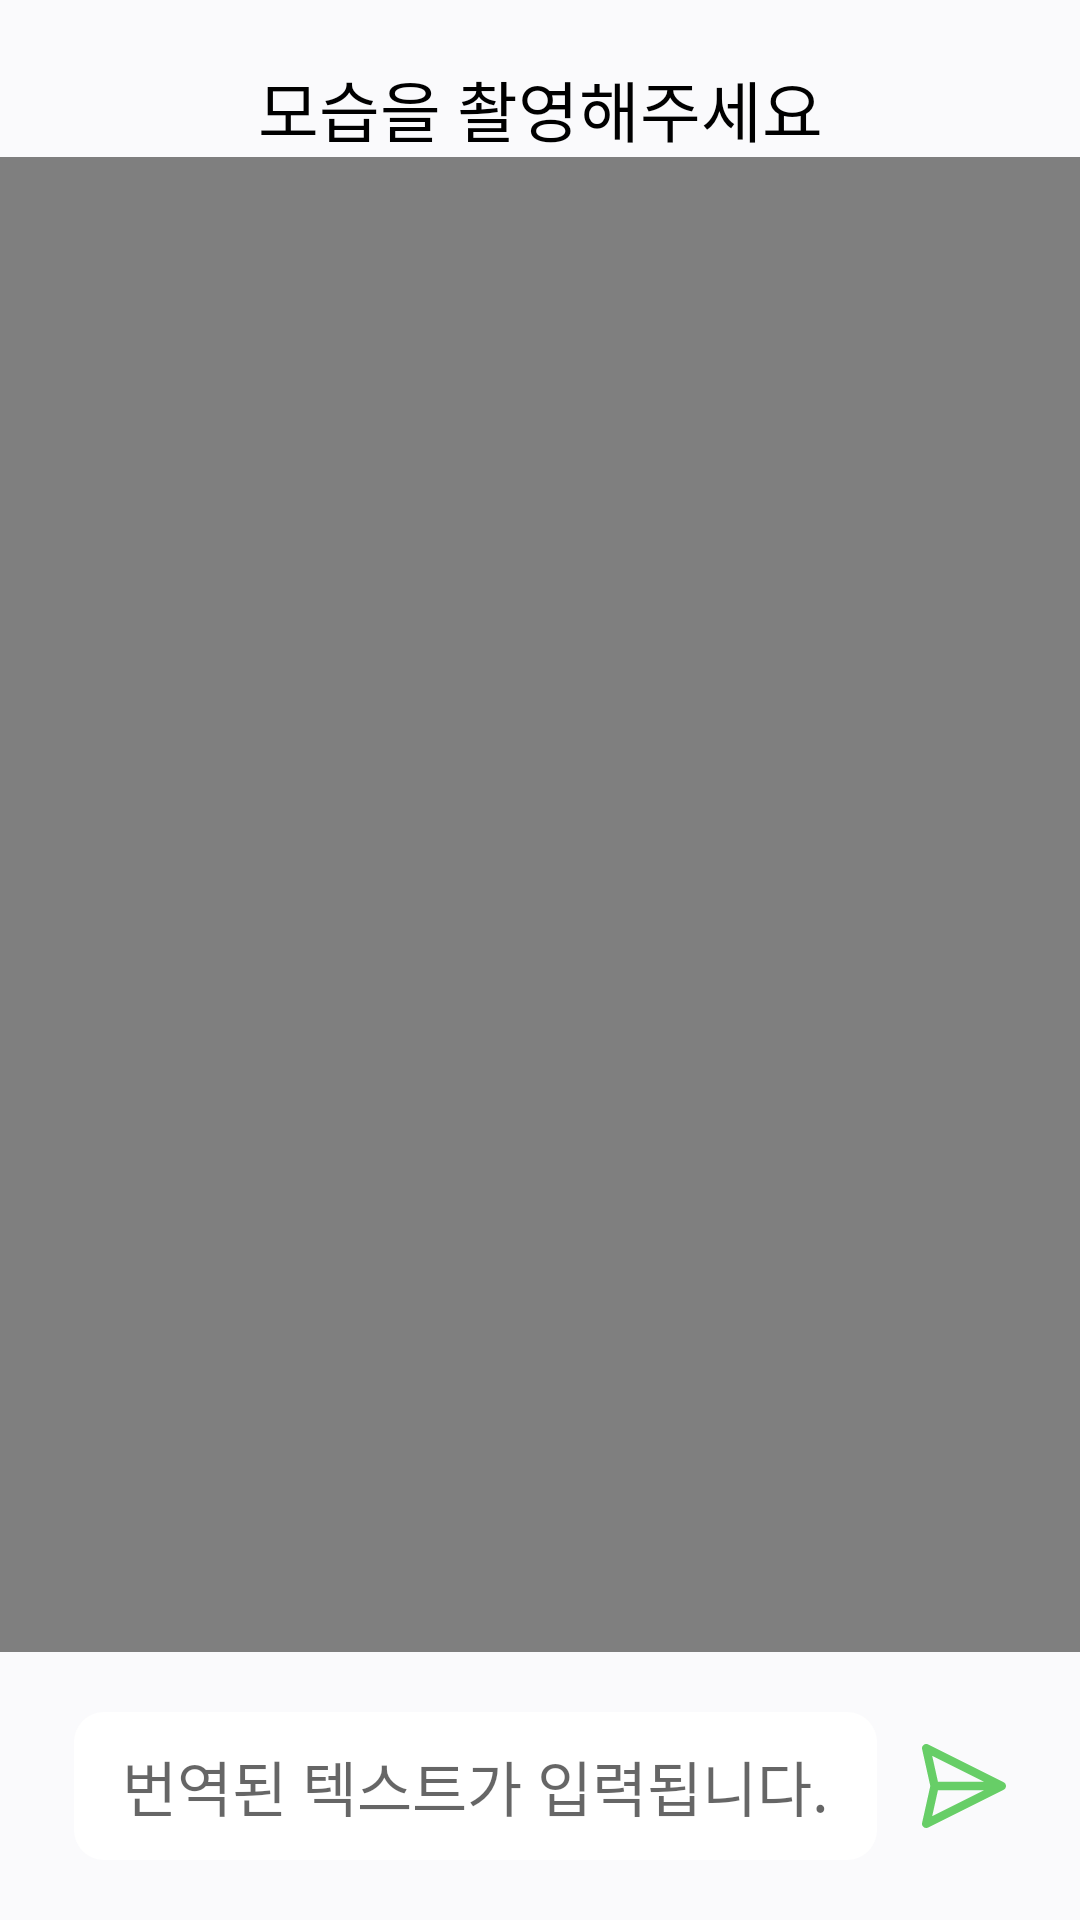

Point at icon controls on the screen. Image size 1080 x 1920, points as point (x, y).
send: point (964, 1786)
